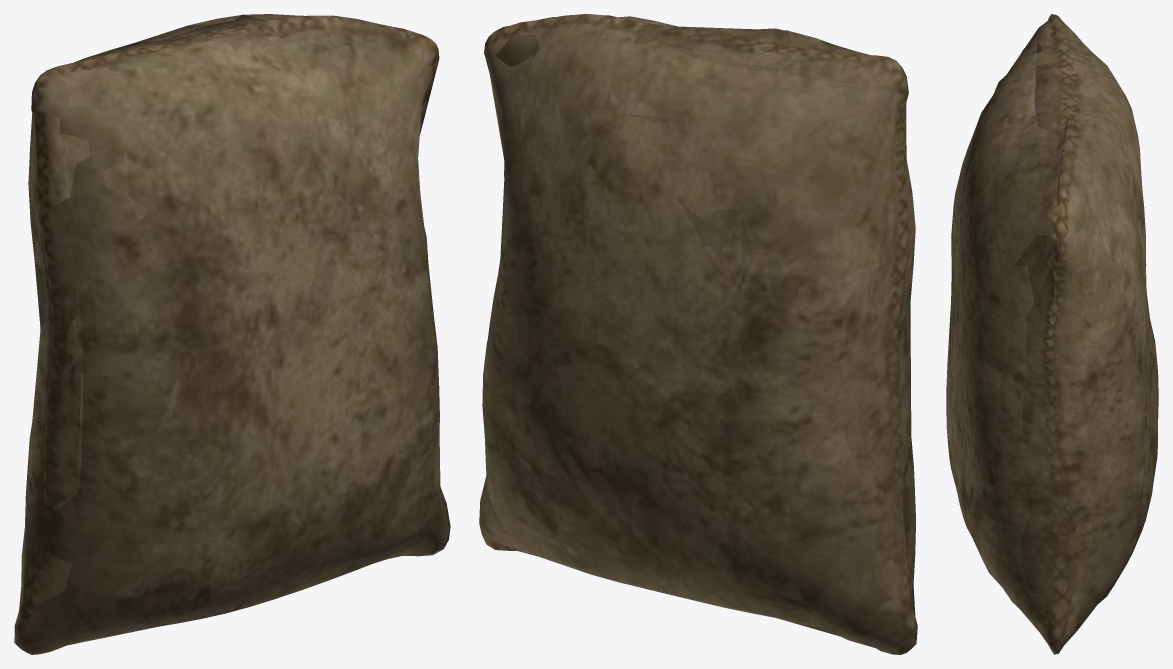
The model's file is SackFullC.glb.
3 renders of one model, left to right at view 1: azimuth 30°, elevation 25°; view 2: azimuth 150°, elevation 25°; view 3: azimuth 270°, elevation 25°, orthographic. The views are drawn at different scales.
Visible parts, largest first — view 1: SackFullC; view 2: SackFullC; view 3: SackFullC.
Boxes of the visible parts, x1,y1,x2,y2 form: SackFullC: (14, 14, 450, 654); SackFullC: (479, 14, 917, 654); SackFullC: (946, 14, 1158, 654).
Size of the model in its own units: 0.6165 by 0.7961 by 0.3152.
1 material, 1 textured.
